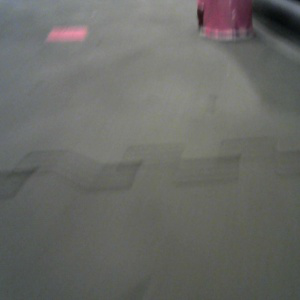Right: (196, 1, 255, 41)
